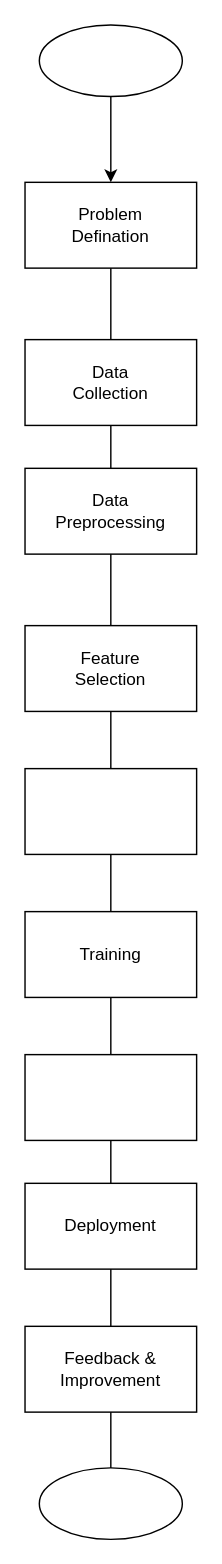
The diagram is 222 pixels wide and 1564 high, and some of its shapes have lost their labels. The box of each missing label's shape, as (x1, y1, x2, y2) in pixels:
End: (38, 1466, 182, 1539)
Model Selection: (24, 767, 197, 854)
Start: (38, 24, 182, 97)
Testing & Evalution: (24, 1053, 197, 1140)
